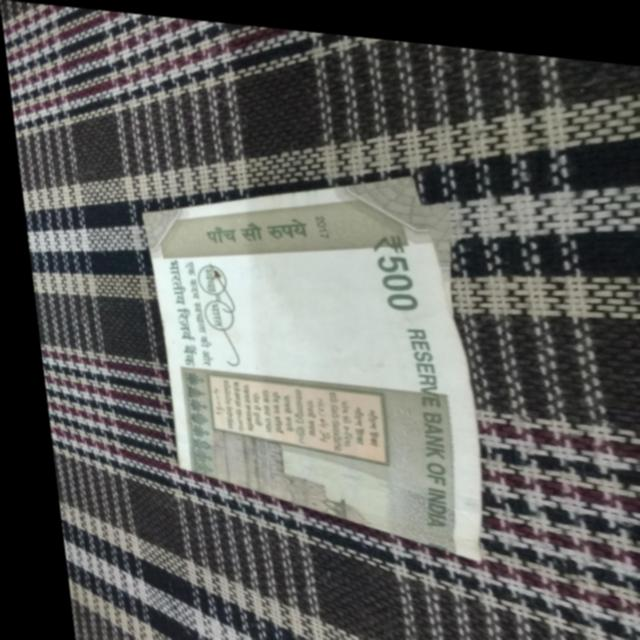Currency: (130, 162, 472, 545)
